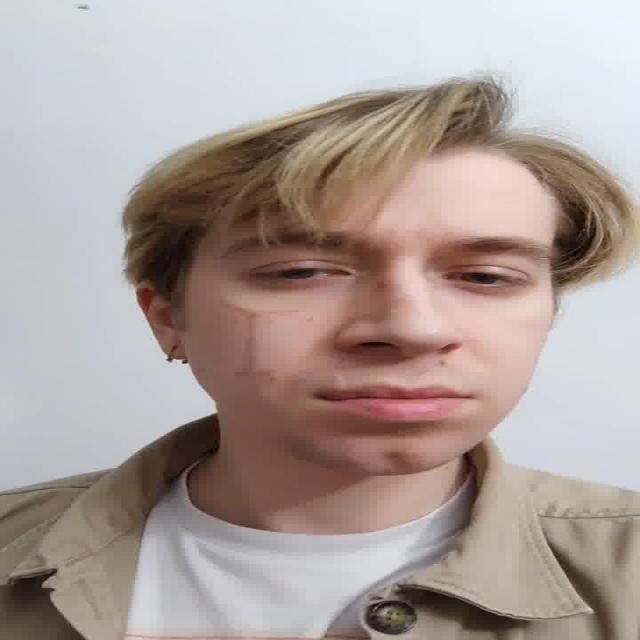earlobe: (159, 335, 191, 360)
eye: (252, 262, 358, 284), (441, 266, 529, 290)
nose: (344, 344, 464, 386)
wholeear: (135, 280, 191, 360)
